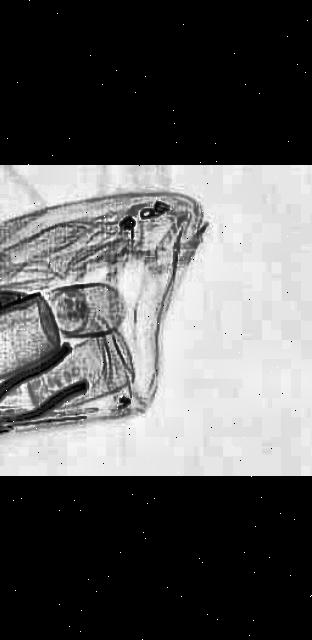Pliers: (0, 344, 123, 458)
